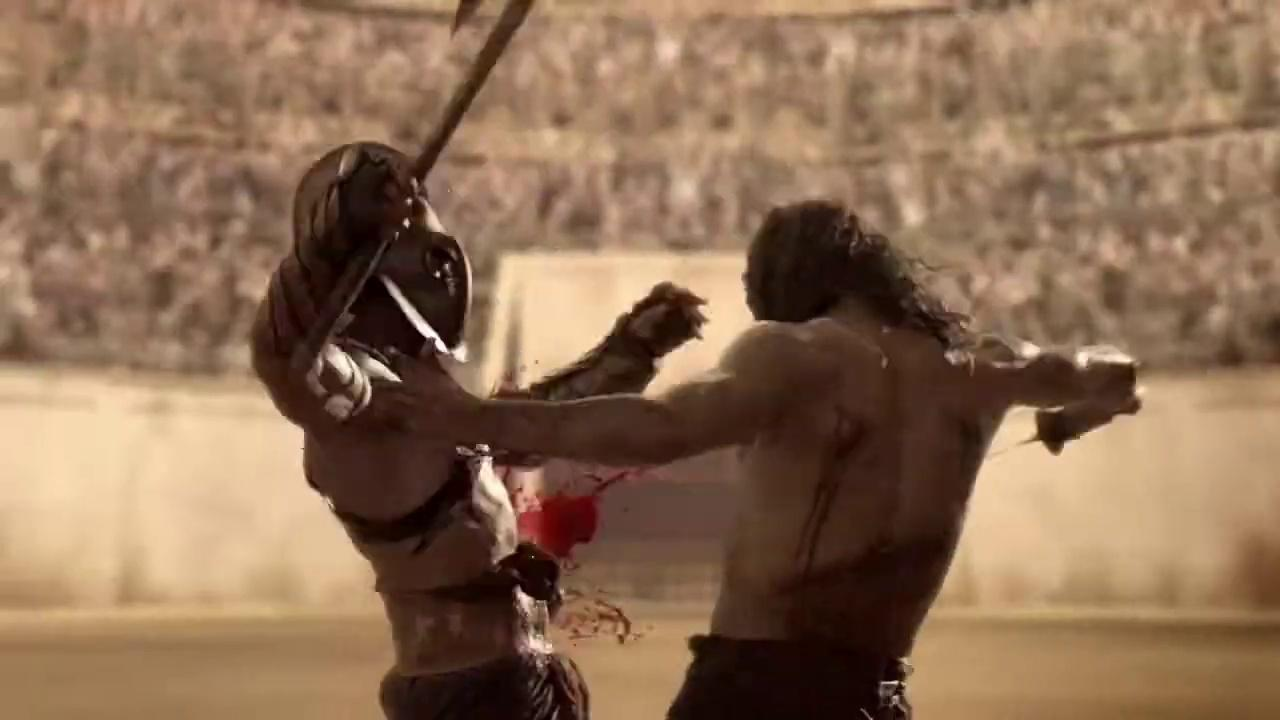Fire: (497, 457, 646, 580), (547, 585, 638, 644)
